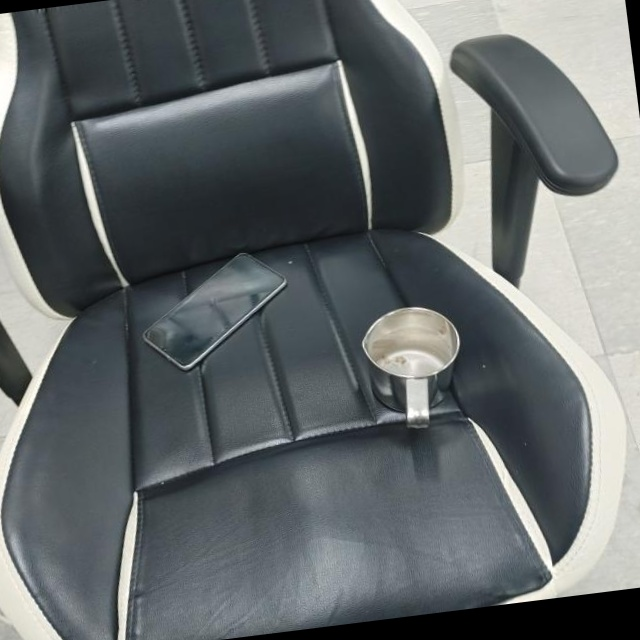cup: (355, 297, 471, 436)
phone: (134, 245, 296, 376)
